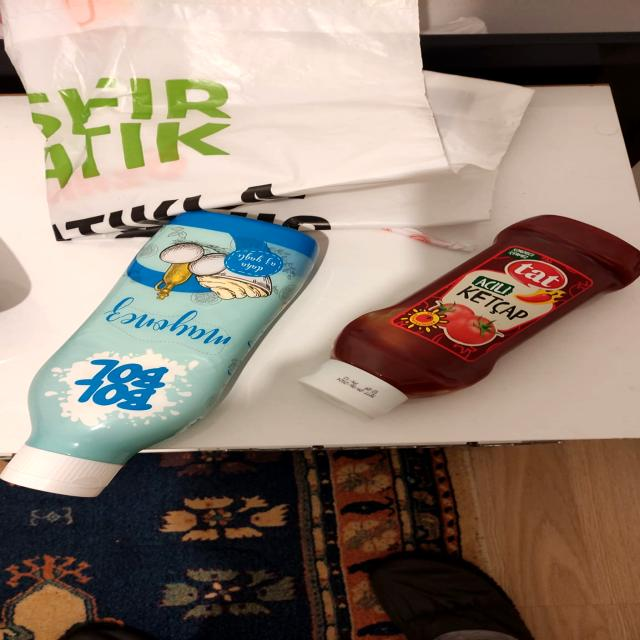ketchup: (316, 204, 640, 428)
mayonnaise: (0, 192, 309, 503)
